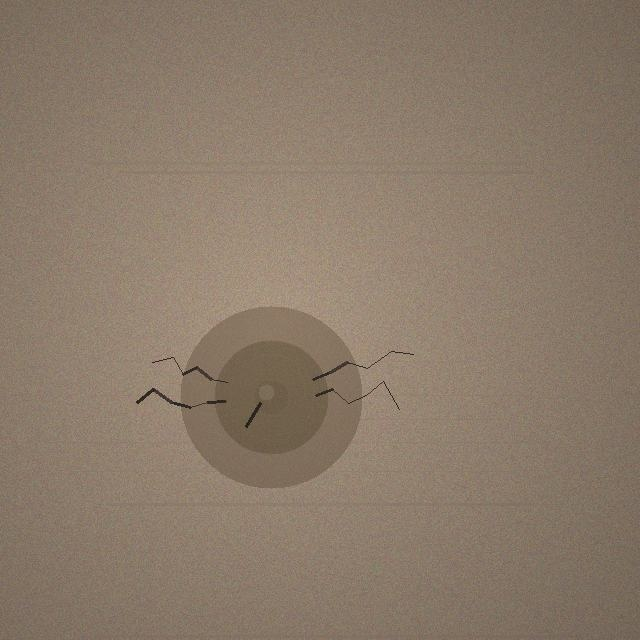crack: (180, 306, 362, 488)
